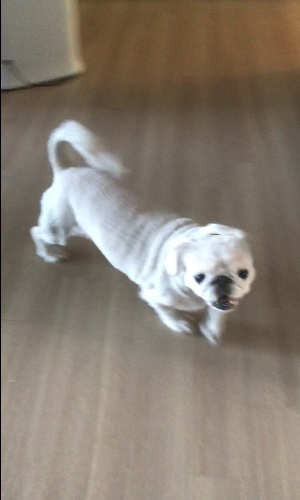ddubi: (25, 117, 262, 349)
